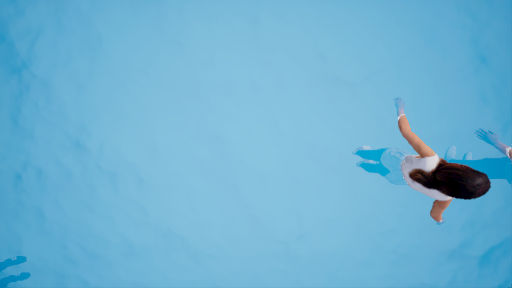person: (346, 96, 489, 227)
